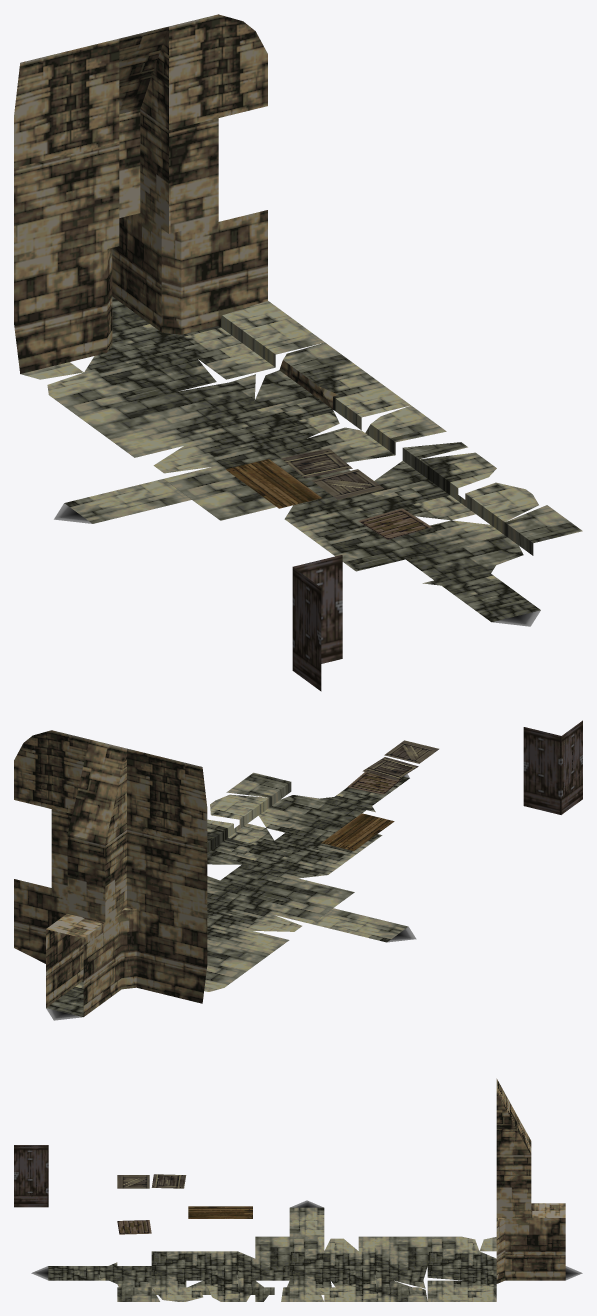
File: MAP115.obj
The picture shows the model from 3 angles, top to bottom: view 1: azimuth 30°, elevation 25°; view 2: azimuth 150°, elevation 25°; view 3: azimuth 270°, elevation 25°; orthographic projection. The views are drawn at different scales.
Parts seen in each view (by area): view 1: mesh_16, mesh_9, mesh_10, mesh_8, mesh_7, mesh_14, mesh_13, mesh_12, mesh_15; view 2: mesh_16, mesh_9, mesh_6, mesh_10, mesh_8, mesh_14, mesh_12, mesh_15, mesh_13; view 3: mesh_9, mesh_16, mesh_10, mesh_8, mesh_14, mesh_12, mesh_13, mesh_15.
Part boxes in pixels (left/top/right/bottom): mesh_16: left=14, top=14, right=267, bottom=373; mesh_9: left=20, top=296, right=540, bottom=622; mesh_10: left=218, top=301, right=582, bottom=555; mesh_8: left=292, top=567, right=321, bottom=691; mesh_7: left=293, top=555, right=342, bottom=663; mesh_14: left=226, top=459, right=322, bottom=508; mesh_13: left=358, top=508, right=431, bottom=539; mesh_12: left=281, top=448, right=352, bottom=478; mesh_15: left=311, top=469, right=384, bottom=499; mesh_16: left=14, top=730, right=207, bottom=1016; mesh_9: left=46, top=776, right=409, bottom=1017; mesh_6: left=523, top=727, right=561, bottom=814; mesh_10: left=207, top=772, right=291, bottom=852; mesh_8: left=561, top=720, right=582, bottom=814; mesh_14: left=321, top=813, right=394, bottom=850; mesh_12: left=362, top=757, right=418, bottom=780; mesh_15: left=384, top=740, right=438, bottom=763; mesh_13: left=347, top=772, right=401, bottom=794; mesh_9: left=48, top=1207, right=496, bottom=1294; mesh_16: left=496, top=1078, right=565, bottom=1283; mesh_10: left=117, top=1287, right=496, bottom=1301; mesh_8: left=14, top=1145, right=48, bottom=1207; mesh_14: left=188, top=1206, right=252, bottom=1218; mesh_12: left=151, top=1174, right=186, bottom=1188; mesh_13: left=117, top=1220, right=151, bottom=1234; mesh_15: left=117, top=1175, right=149, bottom=1188.
Bounding box in the file's own units: 96 × 76.8 × 211.
Materials: 8 (8 with a texture image).
